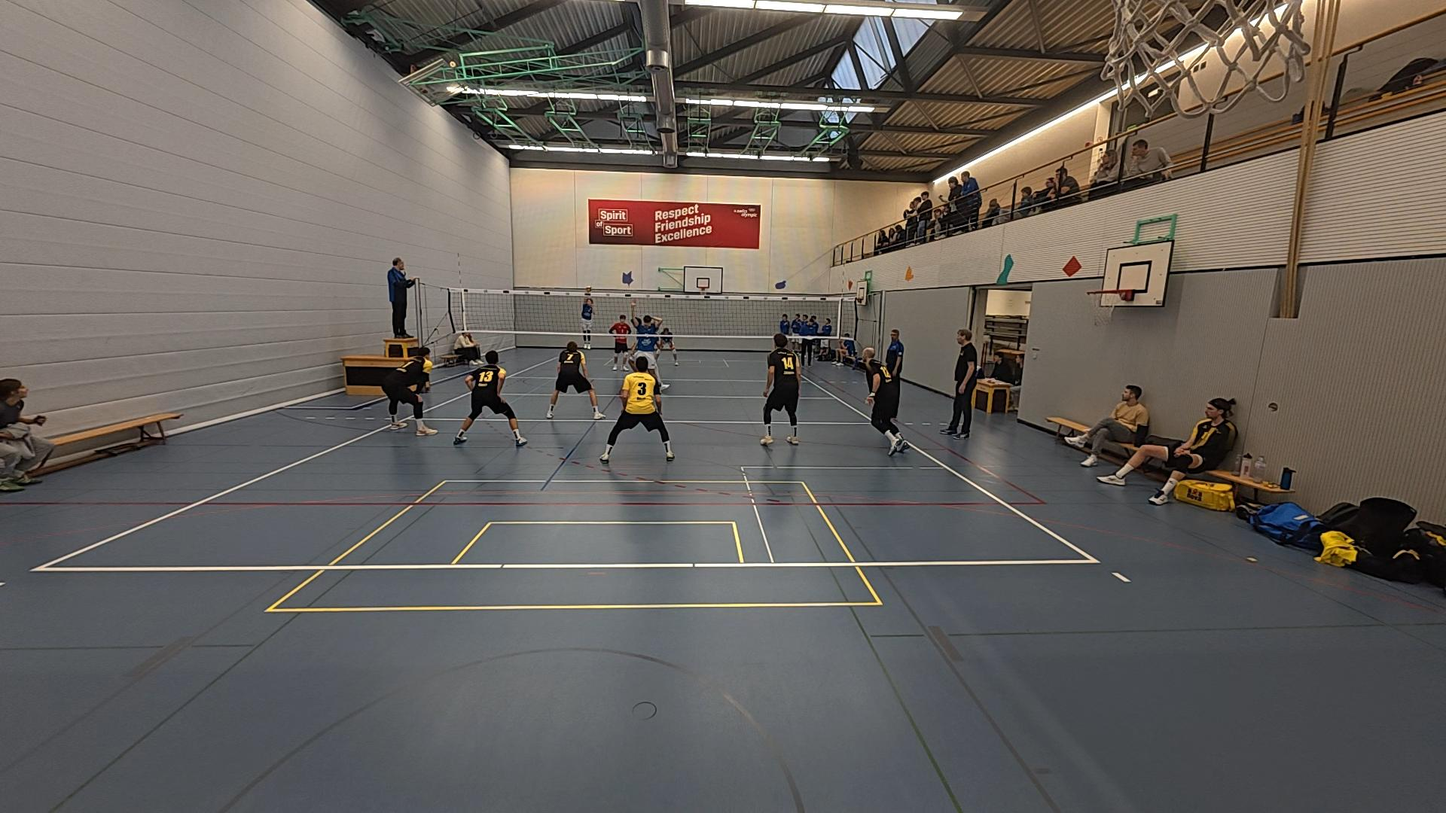battuta: (578, 289, 597, 346)
